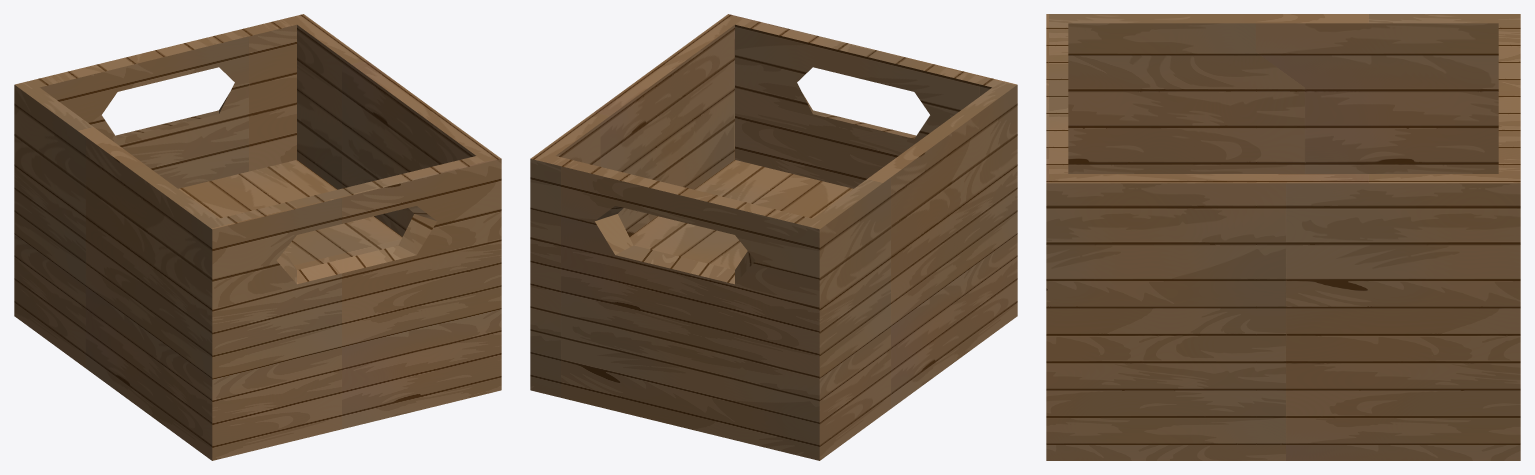
File: SM_box_wgrips_02.fbx
The picture shows the model from 3 angles, left to right: view 1: azimuth 30°, elevation 25°; view 2: azimuth 150°, elevation 25°; view 3: azimuth 270°, elevation 25°; orthographic projection. The views are drawn at different scales.
Parts seen in each view (by area): view 1: box_wgrips_02; view 2: box_wgrips_02; view 3: box_wgrips_02.
Part boxes in pixels (left/top/right/bottom): box_wgrips_02: left=14, top=14, right=501, bottom=460; box_wgrips_02: left=530, top=14, right=1017, bottom=460; box_wgrips_02: left=1046, top=14, right=1520, bottom=460.
Bounding box in the file's own units: 81.07 × 62 × 95.98.
